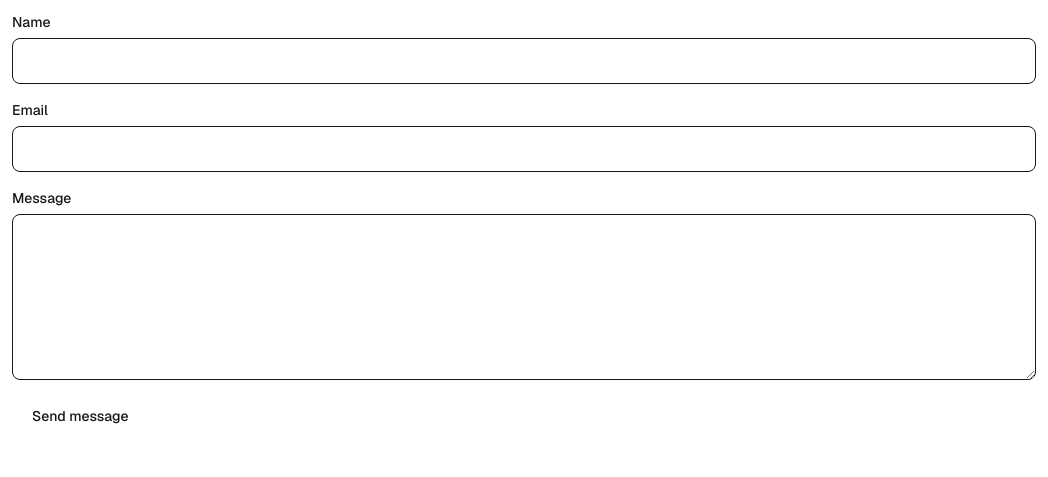
it: ContactForm › shows an error when the request fails
Type "Recruiter" into the field labelled "Name" at (524, 61), box left=12, top=38, right=1036, bottom=84
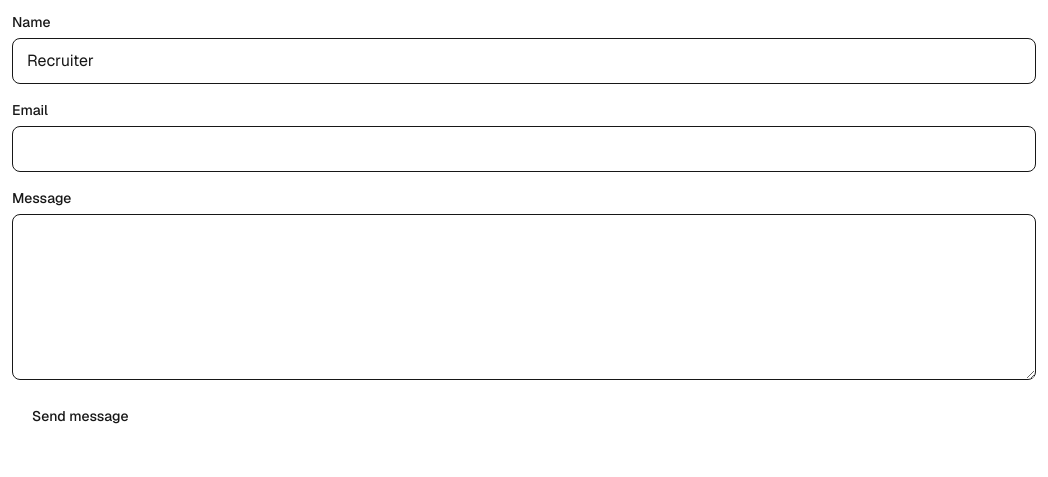
Type "r@example.com" into the field labelled "Email" at (524, 149), box left=12, top=126, right=1036, bottom=172
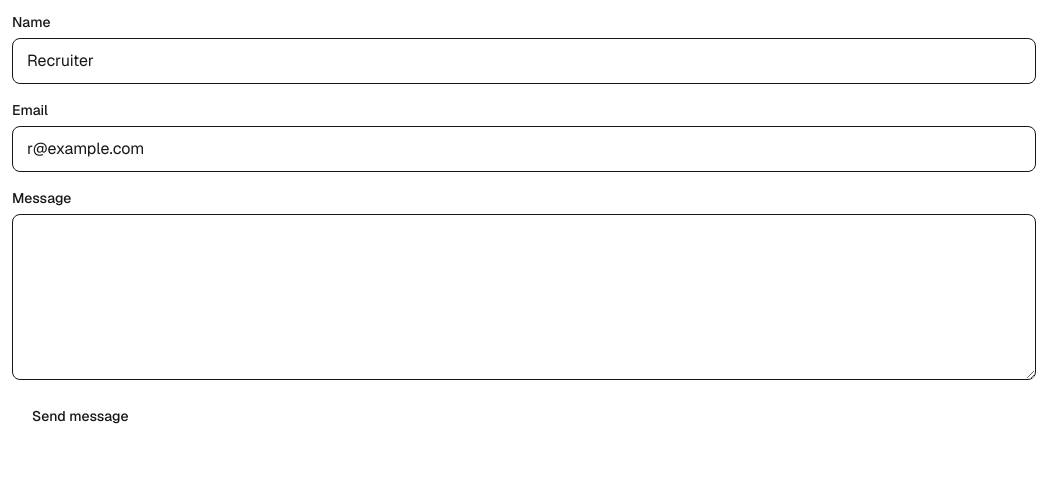
Type "Hello there" into the text box labelled "Message" at (524, 297), box left=12, top=214, right=1036, bottom=380
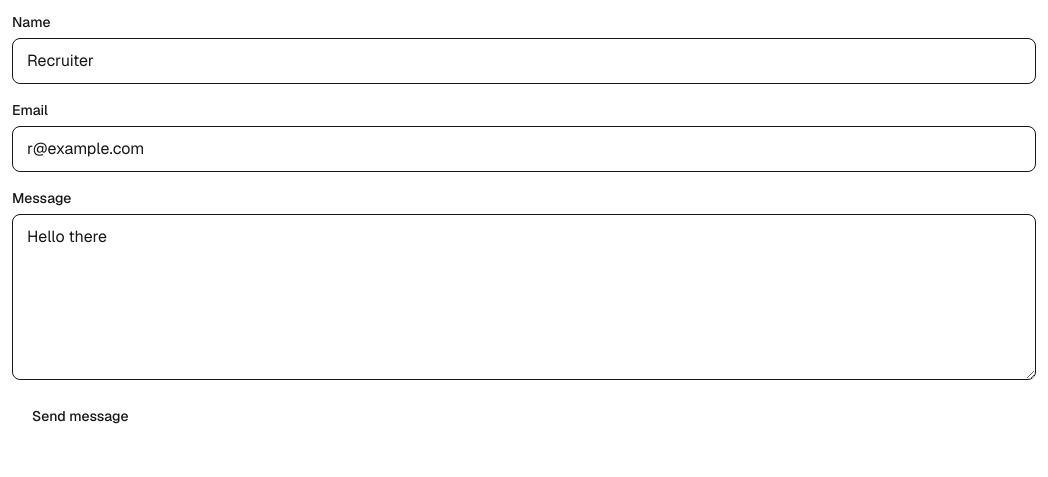
Click the button "Send message" at (80, 416), box left=12, top=396, right=148, bottom=436
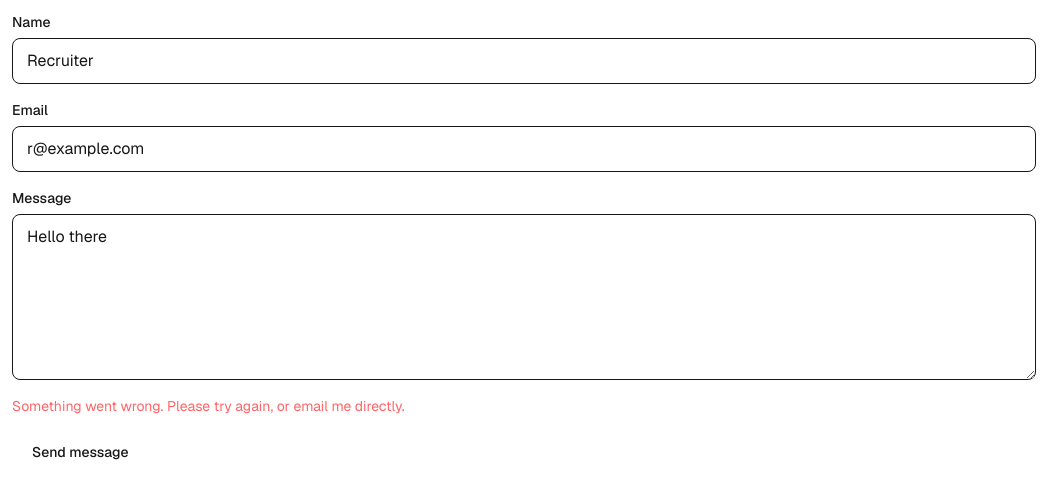
Expected: the message "Something went wrong. Please try again, or email me directly." is shown, left=12, top=397, right=404, bottom=415
